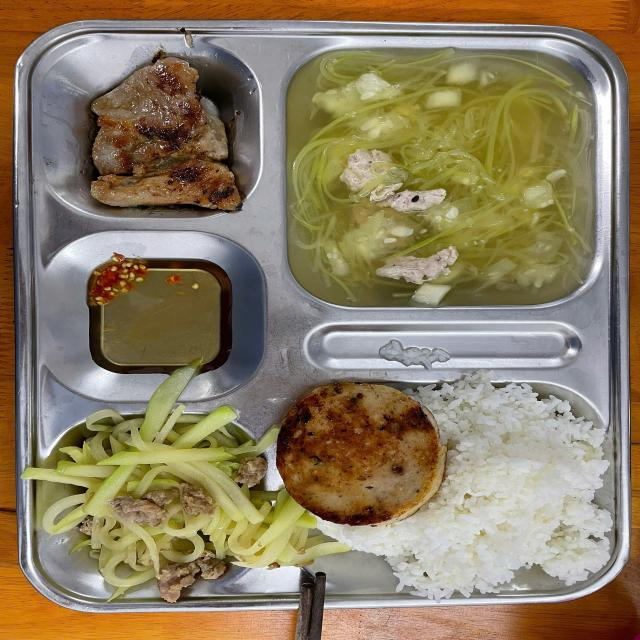canhdudu: (290, 51, 600, 301)
giocha: (276, 375, 441, 527)
salad: (319, 366, 627, 605)
suluoc: (36, 408, 266, 590)
suonram: (73, 56, 256, 211)
